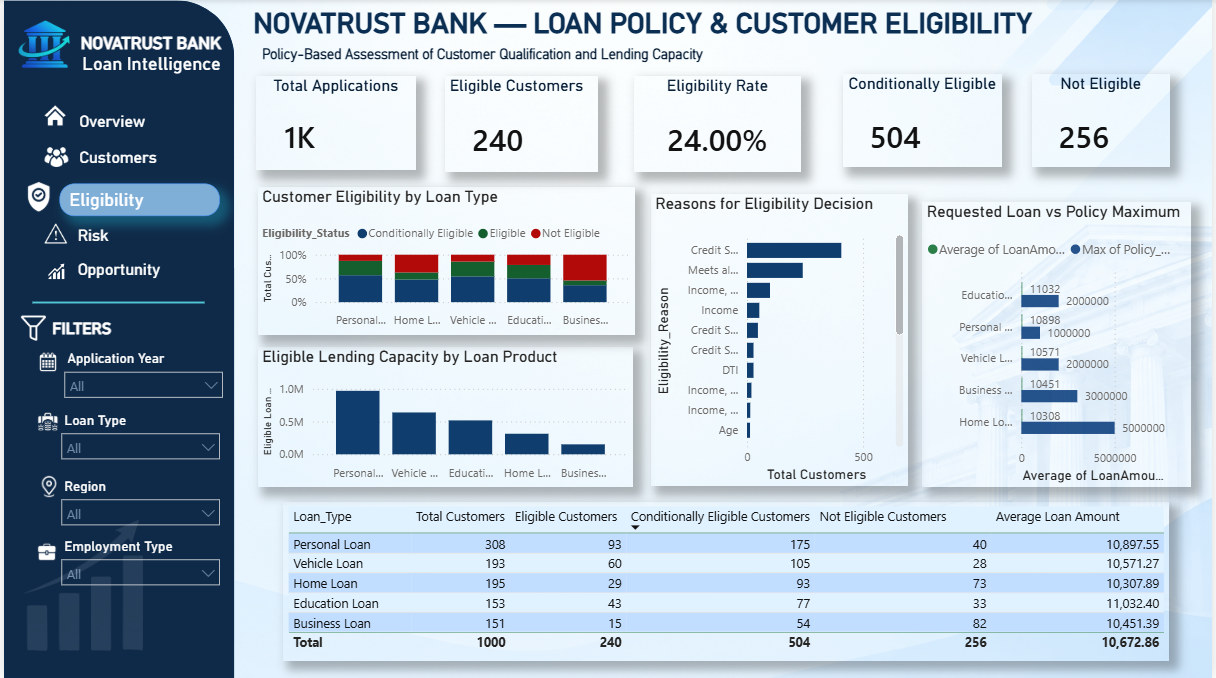

The dashboard page shown, as its layout file describes it:
{"tool":"powerbi","page":{"name":"Loan Policy & Customer Eligibility","canvas":[1280,720],"ordinal":2},"visuals":[{"type":"shape","box":[0,0.8,244.2,719.2],"z":0},{"type":"image","box":[9.5,20.7,63.6,55.7],"z":1000},{"type":"textbox","title":"NOVATRUST BANK","box":[73.2,36.6,165.4,20.7],"z":2000},{"type":"textbox","title":"Loan Intelligence","box":[60.4,57.3,192,42.1],"z":3000},{"type":"image","box":[43.1,108.5,22.7,30.8],"z":4000},{"type":"textbox","title":"Eligibility","box":[59,196.2,170.2,35],"z":5000},{"type":"image","box":[43.1,153.2,25.5,30.3],"z":6000},{"type":"textbox","title":"Overview","box":[74.5,119.8,155.4,19.4],"z":7000},{"type":"image","box":[11.2,191.4,51.1,39.9],"z":8000},{"type":"textbox","title":"Customers","box":[75,157.9,151.1,25.4],"z":9000},{"type":"image","box":[42.9,235.4,23.9,27],"z":10000},{"type":"textbox","title":"Risk","box":[73.2,240.2,179.7,25.4],"z":11000},{"type":"image","box":[33.4,275.2,44.5,27],"z":12000},{"type":"textbox","title":"Opportunity","box":[73.2,276.8,147.9,25.4],"z":13000},{"type":"shape","box":[30.1,308.2,182.4,26.6],"z":14000},{"type":"image","box":[16.7,335,30,26.7],"z":15000},{"type":"textbox","title":"FILTERS","box":[46.1,338.8,187.7,28.6],"z":16000},{"type":"image","box":[35,373.3,23.3,21.7],"z":17000},{"type":"slicer","title":"Application Year","fields":{"Values":["Loan_Applications.Application_Date"]},"box":[54.1,367.4,187.7,65.2],"z":18000},{"type":"image","box":[23.3,433.3,45,35],"z":19000},{"type":"slicer","fields":{"Values":["Loan_Applications.Loan_Type"]},"box":[50.9,432.6,187.7,70],"z":20000},{"type":"slicer","fields":{"Values":["Loan_Applications.Region"]},"box":[50.9,502.6,187.7,62],"z":21000},{"type":"slicer","fields":{"Values":["Loan_Applications.Employment_Type"]},"box":[50.9,566.3,187.7,68.4],"z":22000},{"type":"image","box":[31.7,503.3,31.7,28.3],"z":23000},{"type":"image","box":[11.7,553.3,68.4,65.2],"z":24000},{"type":"image","box":[0,518.5,162.7,201],"z":25000},{"type":"textbox","title":" NOVATRUST BANK — LOAN POLICY & CUSTOMER ELIGIBILITY","box":[259.3,8,949.6,49.3],"z":26000},{"type":"textbox","title":"Policy-Based Assessment of Customer Qualification and Lending Capacity","box":[269.3,49.1,604.7,28.8],"z":27000},{"type":"cardVisual","title":"Eligible Customers","fields":{"Data":["Loan_Applications.Eligible Customers"]},"box":[467.6,81.5,162.7,102.1],"z":28000},{"type":"cardVisual","title":"Total Applications","fields":{"Data":["Loan_Applications.Loan Applications"]},"box":[267.5,81.5,169.1,100.5],"z":29000},{"type":"cardVisual","title":"Eligibility Rate","fields":{"Data":["Loan_Applications.Eligibility Rate"]},"box":[667.8,81.5,177.1,102.1],"z":30000},{"type":"cardVisual","title":"Conditionally Eligible","fields":{"Data":["Loan_Applications.Conditionally Eligible Customers"]},"box":[889.2,79.7,169.1,98.9],"z":31000},{"type":"cardVisual","title":"Not Eligible","fields":{"Data":["Loan_Applications.Not Eligible Customers"]},"box":[1089.3,79.7,146.8,98.9],"z":32000},{"type":"hundredPercentStackedColumnChart","title":"Customer Eligibility by Loan Type","fields":{"Category":["Loan_Applications.Loan_Type"],"Y":["Loan_Applications.Total Customers"],"Series":["Loan_Applications.Eligibility_Status"]},"box":[269.2,198.4,400.3,157.6],"z":33000},{"type":"barChart","title":"Reasons for Eligibility Decision","fields":{"Category":["Loan_Applications.Eligibility_Reason"],"Y":["Loan_Applications.Total Customers"]},"box":[685.5,207.2,272.8,310],"z":34000},{"type":"clusteredBarChart","title":"Requested Loan vs Policy Maximum","fields":{"Category":["Loan_Applications.Loan_Type"],"Y":["Avg(Loan_Applications.LoanAmount)","Max(Loan_Applications.Policy_Max_Loan)"]},"box":[974.2,214.3,285.2,302.9],"z":35000},{"type":"columnChart","title":"Eligible Lending Capacity by Loan Product","fields":{"Category":["Loan_Applications.Loan_Type"],"Y":["Loan_Applications.Eligible Loan Amount"]},"box":[269.2,368.4,398.5,148.8],"z":36000},{"type":"tableEx","fields":{"Values":["Loan_Applications.Loan_Type","Loan_Applications.Total Customers","Loan_Applications.Eligible Customers","Loan_Applications.Conditionally Eligible Customers","Loan_Applications.Not Eligible Customers","Loan_Applications.Average Loan Amount"]},"box":[295.9,532.9,940.1,168.6],"z":37000},{"type":"actionButton","box":[69.1,267.5,145.2,40.7],"z":38000},{"type":"actionButton","box":[67.3,228.5,100,40],"z":39000},{"type":"actionButton","box":[67.3,147,163,40.7],"z":40000},{"type":"actionButton","box":[67.3,108,178.9,40.7],"z":41000}]}

Visuals, with their boxes in screenshot pixels (x1, y1, x2, y2), scaled from the page's 1280x720 canvas onto the 1216x678 screenshot:
shape: box=[0, 1, 232, 677]
image: box=[9, 19, 69, 72]
"NOVATRUST BANK" textbox: box=[70, 34, 227, 54]
"Loan Intelligence" textbox: box=[57, 54, 240, 94]
image: box=[41, 102, 63, 131]
"Eligibility" textbox: box=[56, 185, 218, 218]
image: box=[41, 144, 65, 173]
"Overview" textbox: box=[71, 113, 218, 131]
image: box=[11, 180, 59, 218]
"Customers" textbox: box=[71, 149, 215, 173]
image: box=[41, 222, 63, 247]
"Risk" textbox: box=[70, 226, 240, 250]
image: box=[32, 259, 74, 285]
"Opportunity" textbox: box=[70, 261, 210, 285]
shape: box=[29, 290, 202, 315]
image: box=[16, 315, 44, 341]
"FILTERS" textbox: box=[44, 319, 222, 346]
image: box=[33, 352, 55, 372]
"Application Year" slicer: box=[51, 346, 230, 407]
image: box=[22, 408, 65, 441]
slicer - Loan_Applications.Loan_Type: box=[48, 407, 227, 473]
slicer - Loan_Applications.Region: box=[48, 473, 227, 532]
slicer - Loan_Applications.Employment_Type: box=[48, 533, 227, 598]
image: box=[30, 474, 60, 501]
image: box=[11, 521, 76, 582]
image: box=[0, 488, 155, 677]
" NOVATRUST BANK — LOAN POLICY & CUSTOMER ELIGIBILITY" textbox: box=[246, 8, 1148, 54]
"Policy-Based Assessment of Customer Qualification and Lending Capacity" textbox: box=[256, 46, 830, 73]
"Eligible Customers" cardVisual: box=[444, 77, 599, 173]
"Total Applications" cardVisual: box=[254, 77, 415, 171]
"Eligibility Rate" cardVisual: box=[634, 77, 803, 173]
"Conditionally Eligible" cardVisual: box=[845, 75, 1005, 168]
"Not Eligible" cardVisual: box=[1035, 75, 1174, 168]
"Customer Eligibility by Loan Type" hundredPercentStackedColumnChart: box=[256, 187, 636, 335]
"Reasons for Eligibility Decision" barChart: box=[651, 195, 910, 487]
"Requested Loan vs Policy Maximum" clusteredBarChart: box=[925, 202, 1196, 487]
"Eligible Lending Capacity by Loan Product" columnChart: box=[256, 347, 634, 487]
tableEx - Loan_Applications.Loan_Type x Loan_Applications.Total Customers: box=[281, 502, 1174, 661]
actionButton: box=[66, 252, 204, 290]
actionButton: box=[64, 215, 159, 253]
actionButton: box=[64, 138, 219, 177]
actionButton: box=[64, 102, 234, 140]
